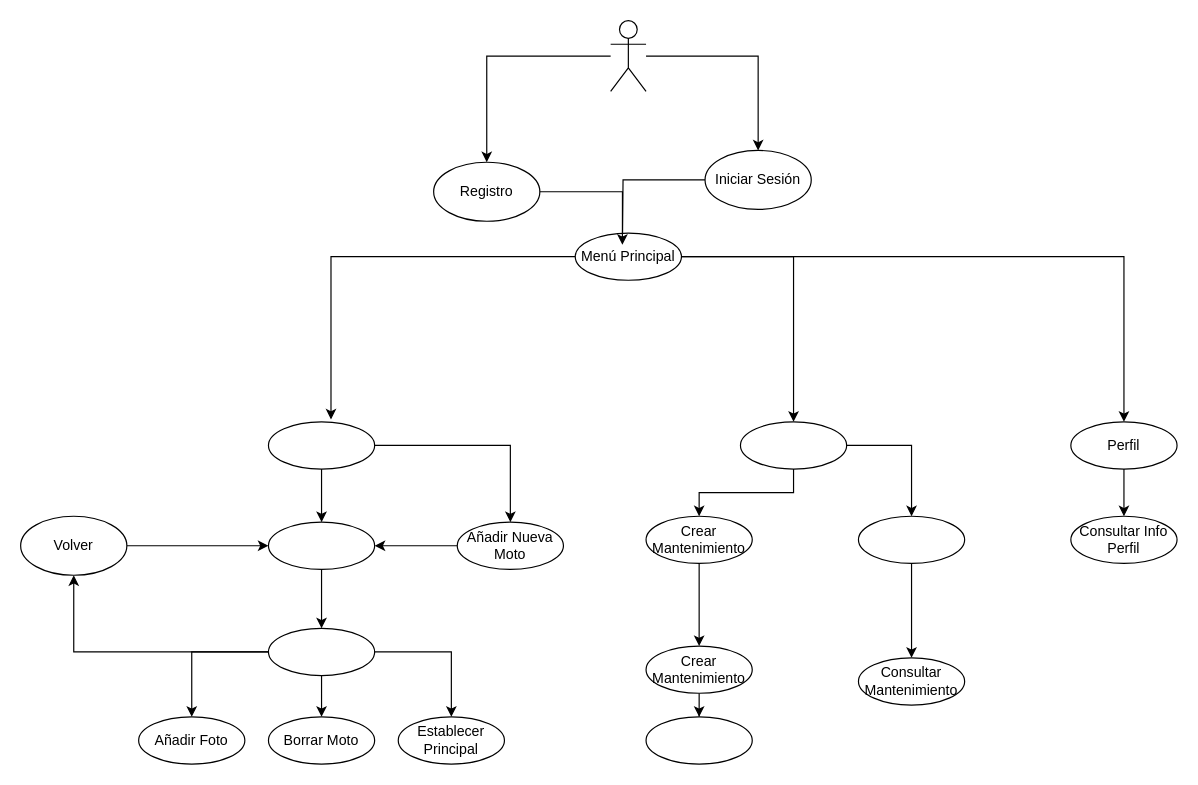
Image size: 1198x785. Some labels were removed from this diagram. Each missing label, with the centre of its shape:
"Actor" goes at point (627, 55).
"Guardar Mantenimiento" goes at point (698, 740).
"Historial Mantenimientos" goes at point (911, 539).
"Lista Motos" goes at point (321, 545).
"Mantenimientos" goes at point (793, 445).
"Mi Garaje" goes at point (321, 445).
"Moto" goes at point (321, 651).
